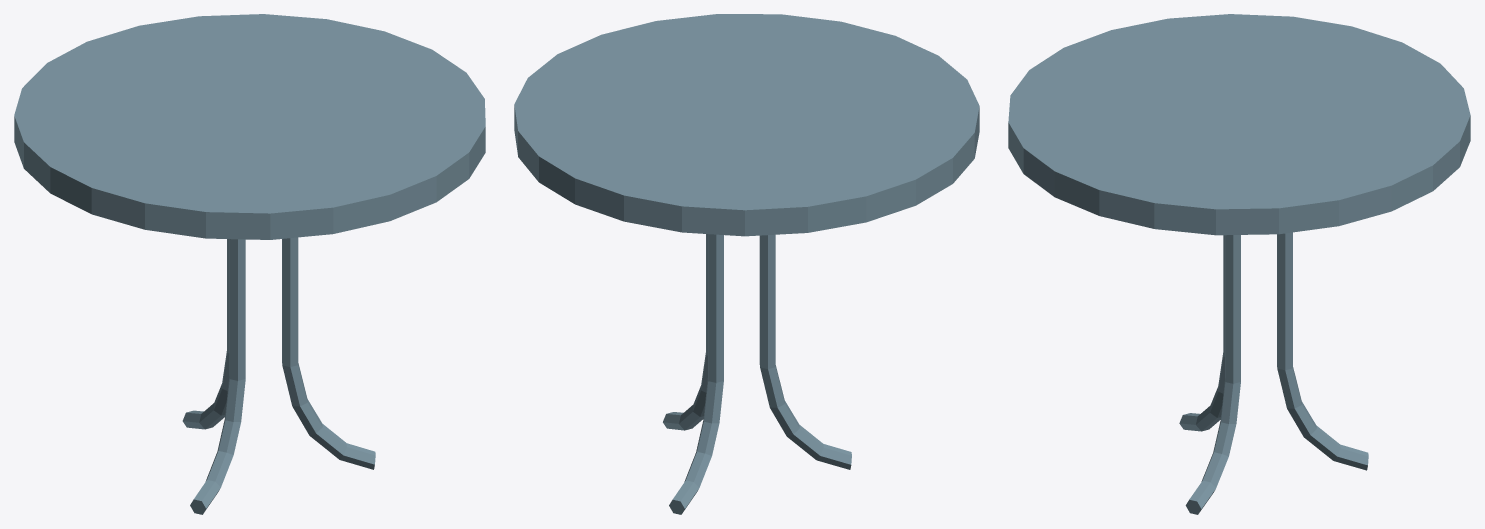
The model's file is kitchen table.fbx.
The picture shows the model from 3 angles, left to right: view 1: azimuth 30°, elevation 25°; view 2: azimuth 150°, elevation 25°; view 3: azimuth 270°, elevation 25°; orthographic projection. The views are drawn at different scales.
Parts seen in each view (by area): view 1: kitchen table; view 2: kitchen table; view 3: kitchen table.
Part boxes in pixels (left/top/right/bottom): kitchen table: left=14, top=14, right=485, bottom=514; kitchen table: left=514, top=14, right=979, bottom=514; kitchen table: left=1008, top=14, right=1470, bottom=514.
Bounding box in the file's own units: 118 × 99.97 × 118.
